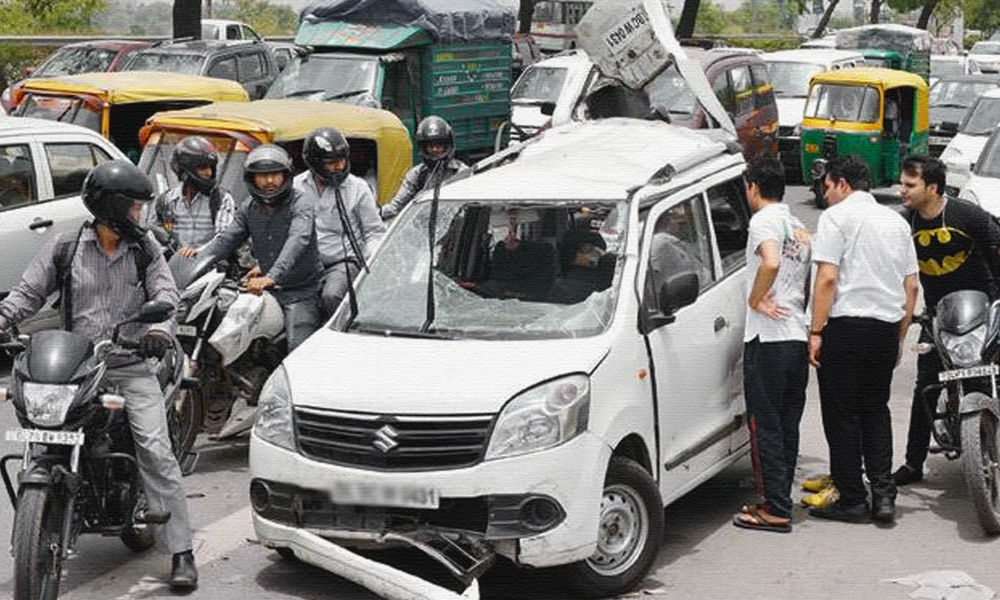accident: (200, 104, 781, 600)
